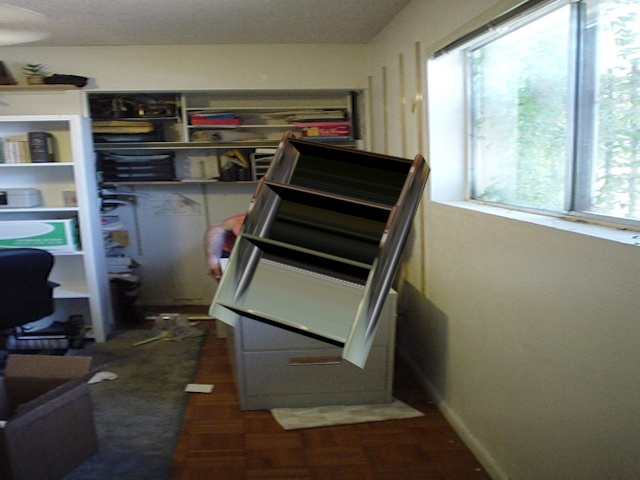bookcase: (208, 128, 432, 376)
